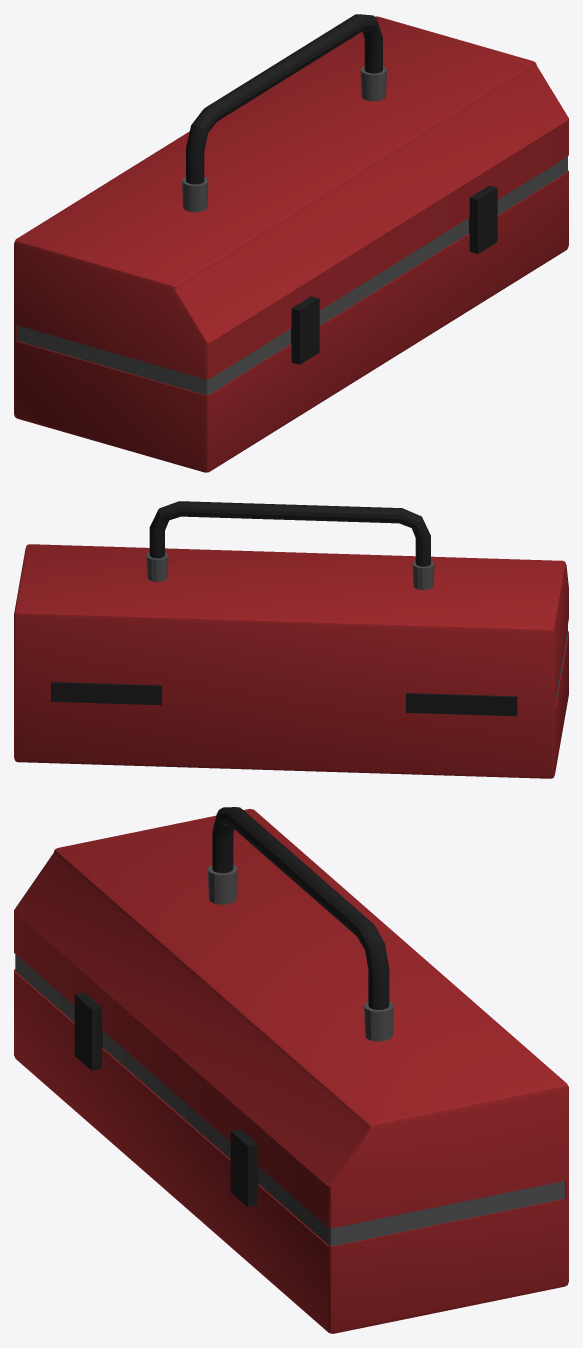
The model's file is Toolbox.fbx.
The picture shows the model from 3 angles, top to bottom: view 1: azimuth 30°, elevation 25°; view 2: azimuth 150°, elevation 25°; view 3: azimuth 270°, elevation 25°; orthographic projection. The views are drawn at different scales.
Visible parts, largest first — view 1: Toolbox; view 2: Toolbox; view 3: Toolbox.
Part boxes in pixels (<box>): Toolbox: <box>14,14,568,472</box>; Toolbox: <box>14,501,568,778</box>; Toolbox: <box>14,807,568,1333</box>.
Size of the model in its own units: 2043 by 899 by 1472.
